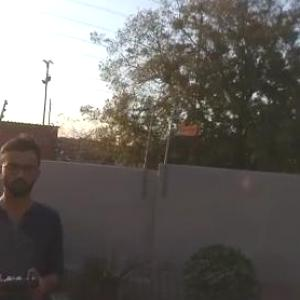follow: (0, 129, 69, 299)
